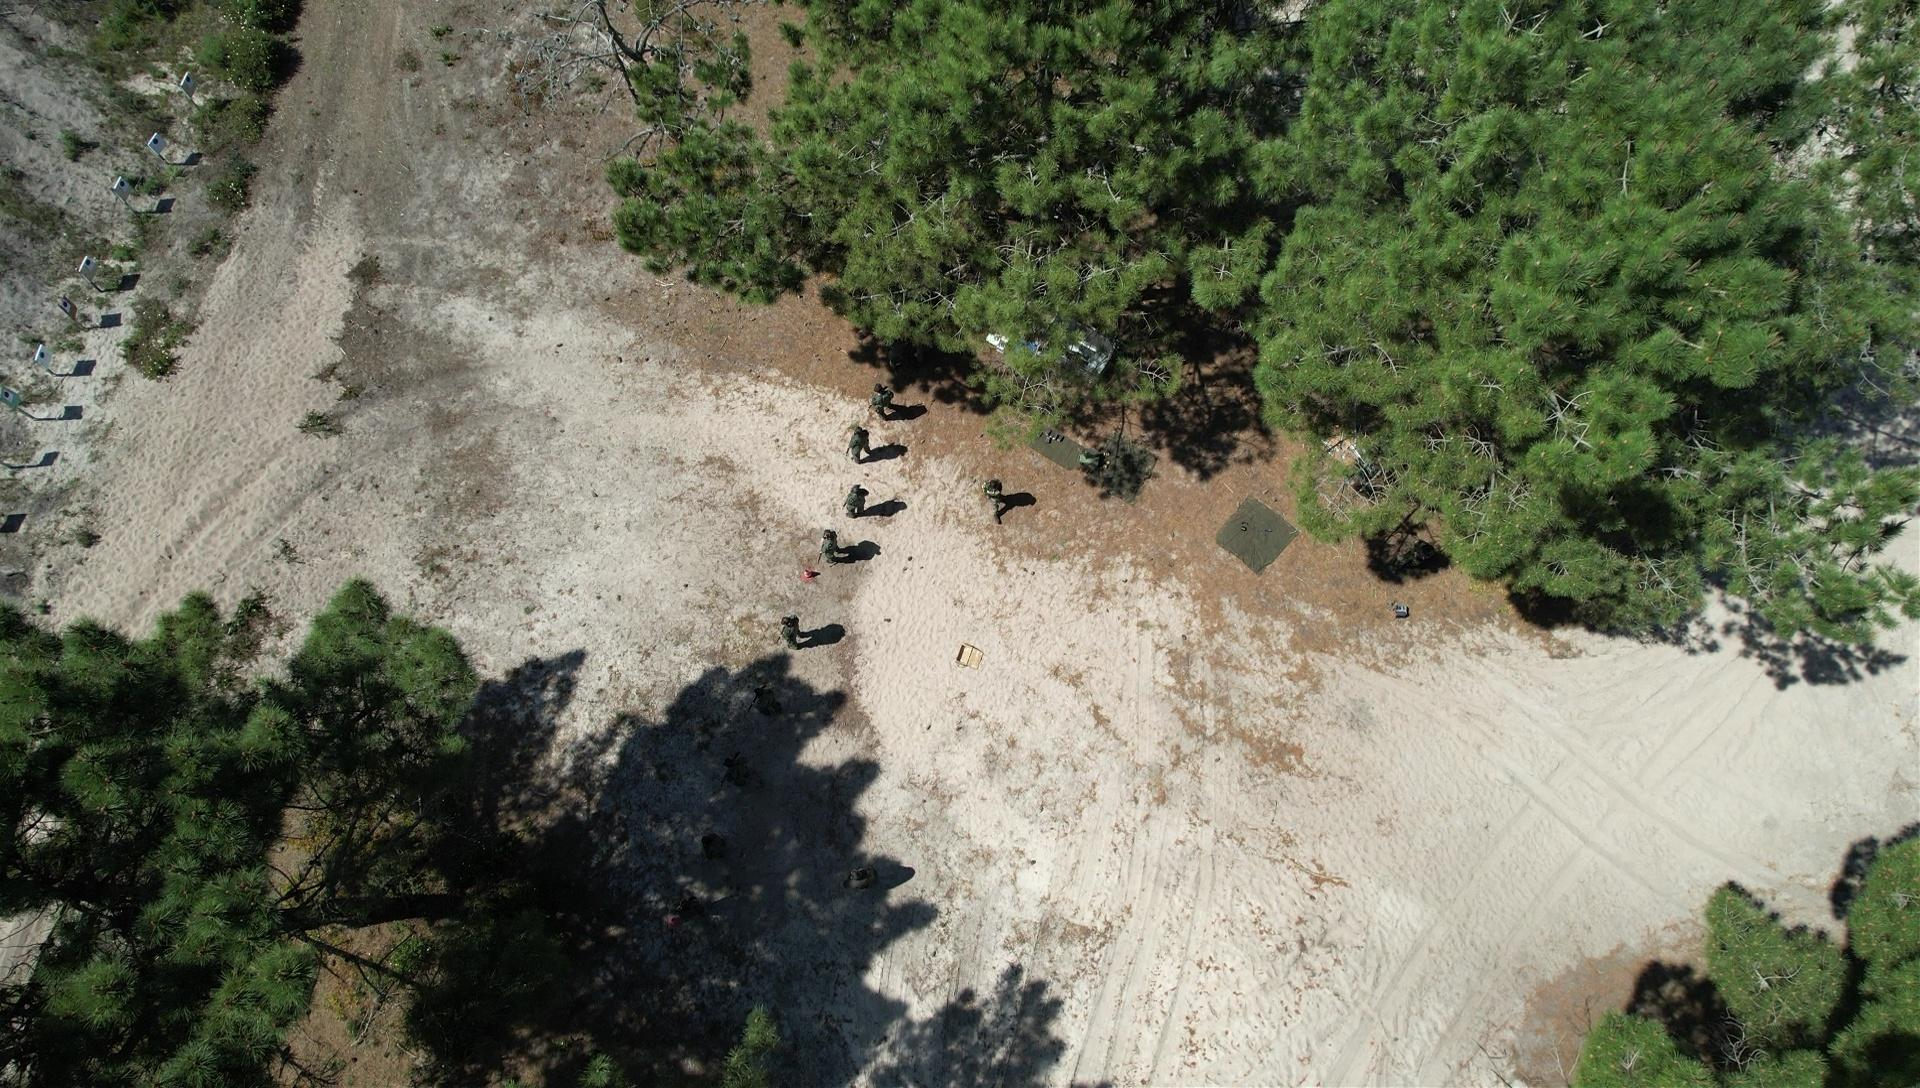Soldier: (715, 745, 769, 801), (839, 860, 895, 903), (978, 468, 1017, 524), (847, 425, 885, 473), (775, 608, 815, 651), (748, 682, 785, 725), (841, 481, 878, 524), (869, 378, 902, 421), (698, 832, 735, 869), (819, 528, 849, 572)
